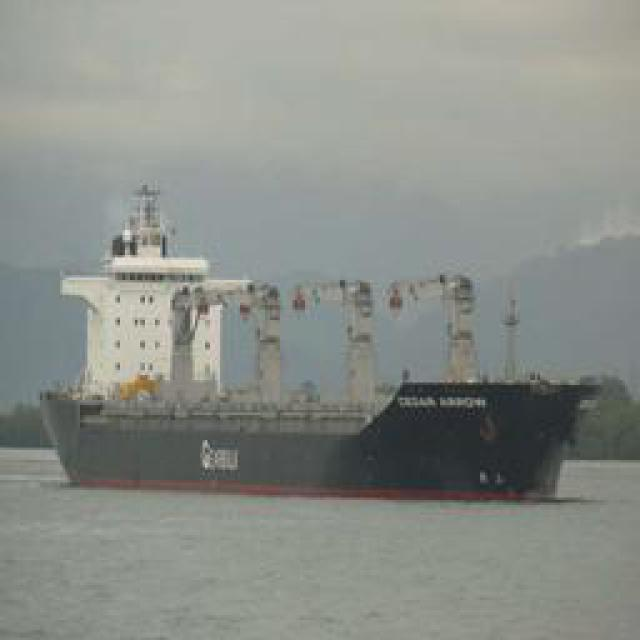Ship: (43, 177, 601, 508)
